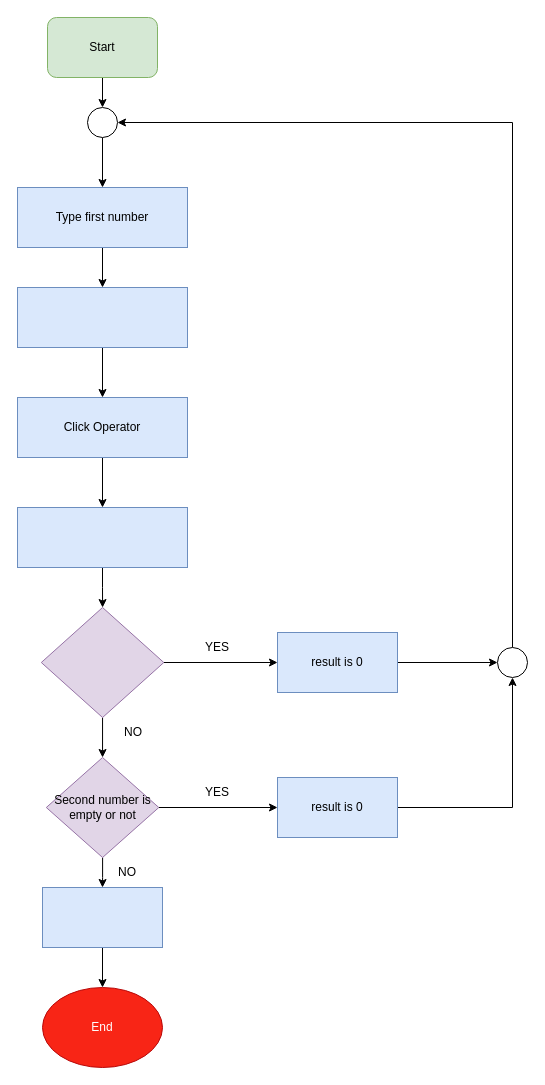
This 545x1085 diagram has some shape labels left out. Here are the shapes that lost their labels. From the top down, the box of each, then its label:
(16, 286, 188, 348): Type second number
(16, 506, 188, 568): Click result symbol
(40, 606, 164, 718): First number is empty or not
(42, 886, 162, 948): Show result
